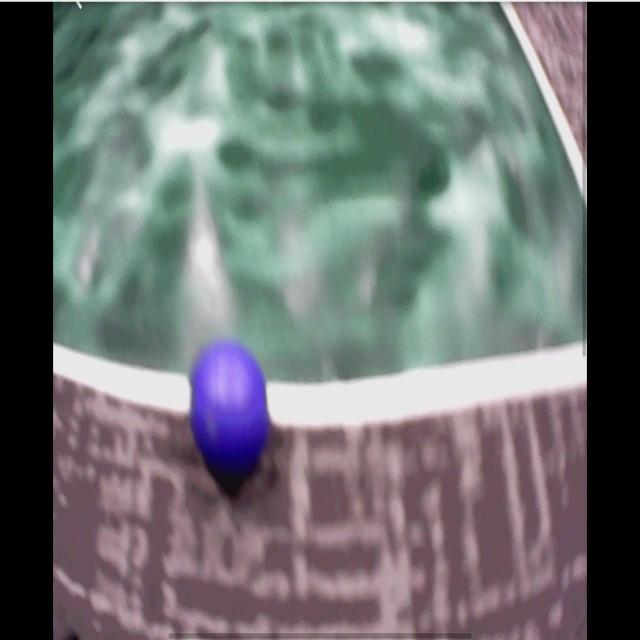ball: (190, 345, 269, 468)
